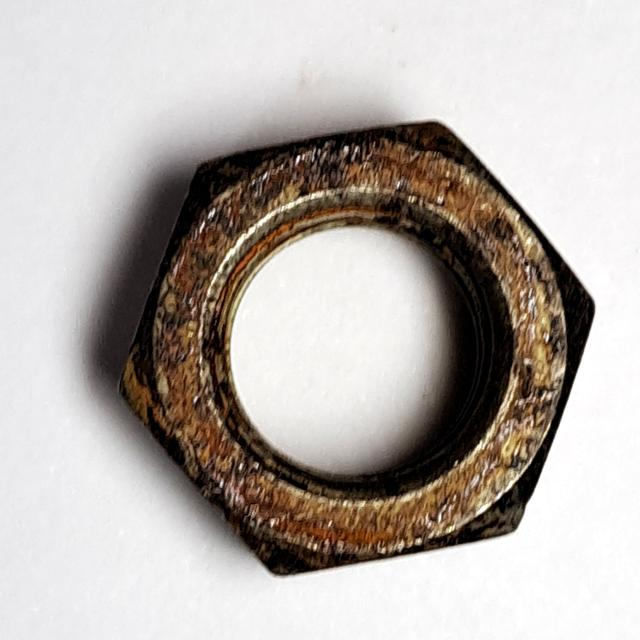Rust: (102, 113, 606, 587)
